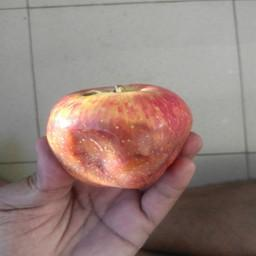Bad_apple: (42, 82, 191, 186)
